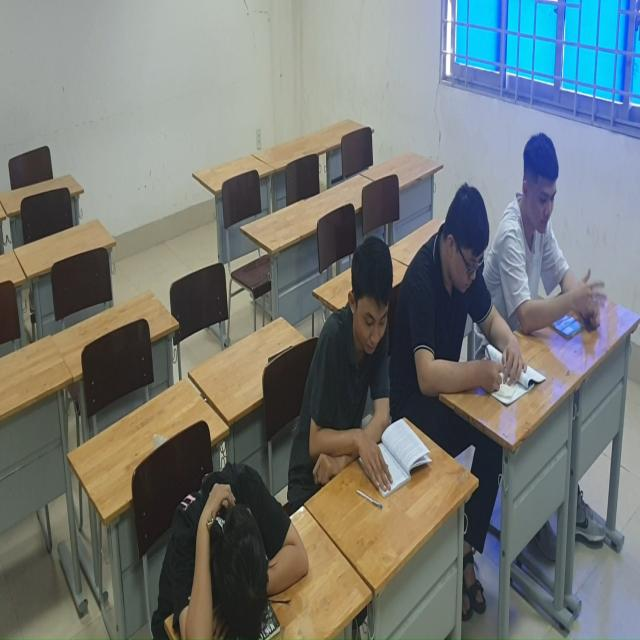read: (310, 230, 435, 502), (417, 184, 546, 412)
sleep: (160, 457, 315, 640)
